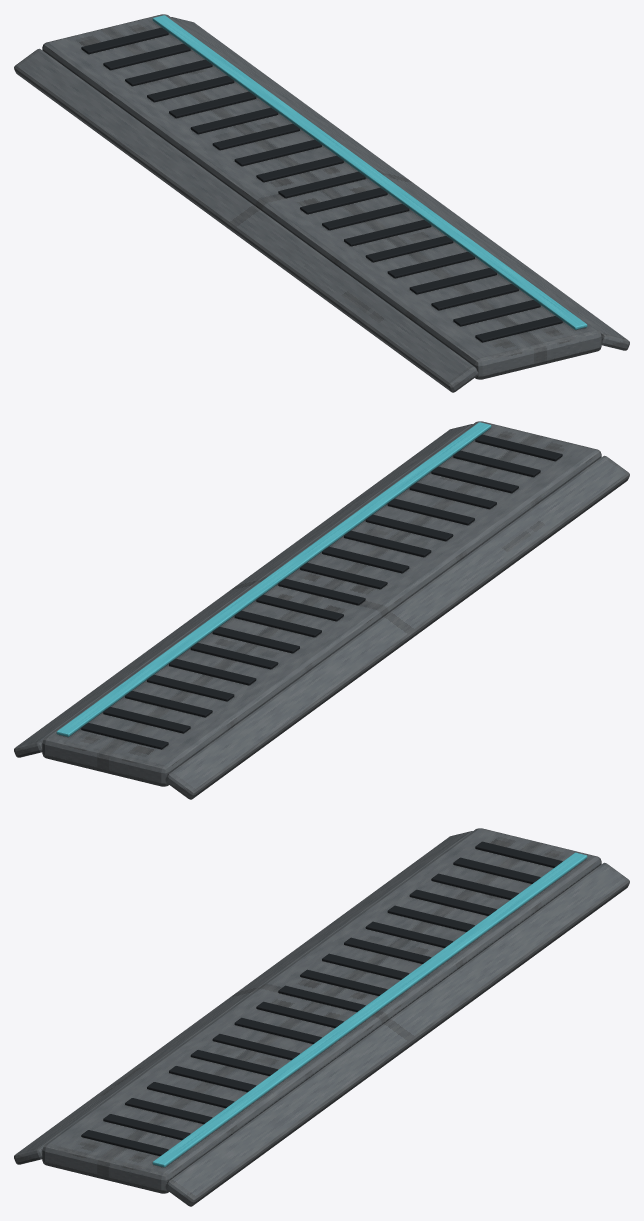
Rendered from base_cable_trunk.glb.
3 renders of one model, top to bottom at view 1: azimuth 30°, elevation 25°; view 2: azimuth 150°, elevation 25°; view 3: azimuth 330°, elevation 25°, orthographic.
Visible parts, largest first — view 1: base_cable_trunk; view 2: base_cable_trunk; view 3: base_cable_trunk.
Part boxes in pixels (x1,y1,x2,y2): base_cable_trunk: [14, 14, 629, 392]; base_cable_trunk: [14, 421, 629, 799]; base_cable_trunk: [14, 828, 629, 1206].
Size of the model in its own units: 0.7163 by 0.1128 by 3.
3 materials, 3 textured.
